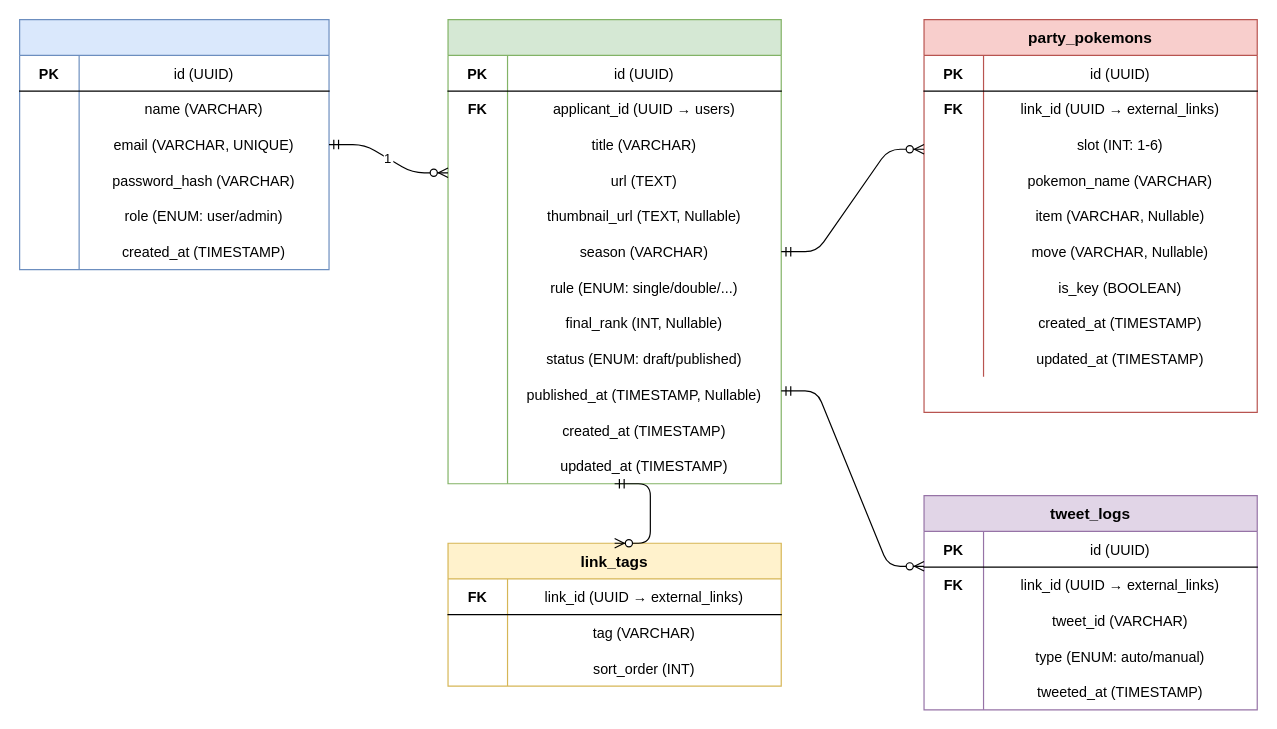
Image size: 1277x729. Some labels were removed from this diagram. The box of each missing label's shape, as (x1, y1, x2, y2) in pixels:
external_links: (447, 18, 781, 484)
users: (18, 18, 329, 270)
